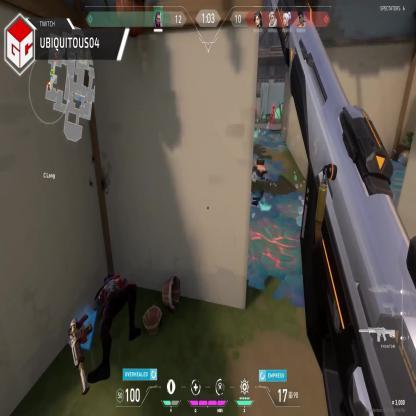enemy: (270, 104, 275, 127), (254, 104, 258, 119)
enemy_head: (272, 103, 276, 108), (254, 104, 256, 108)
